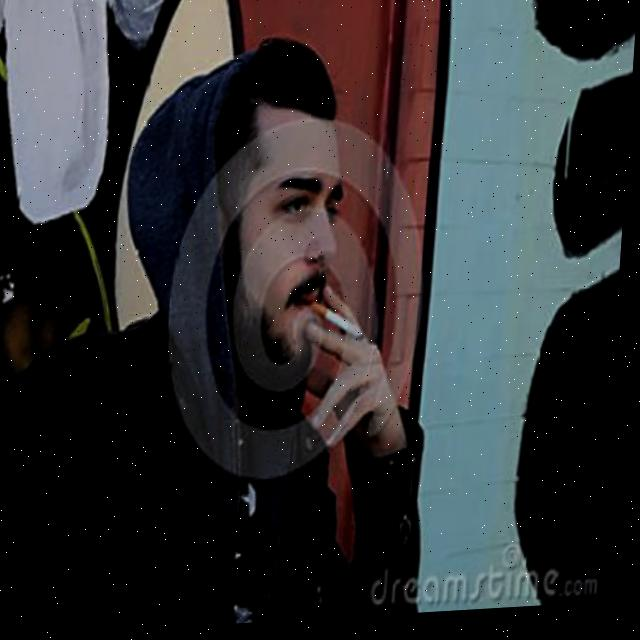cigarette: (314, 297, 371, 344)
